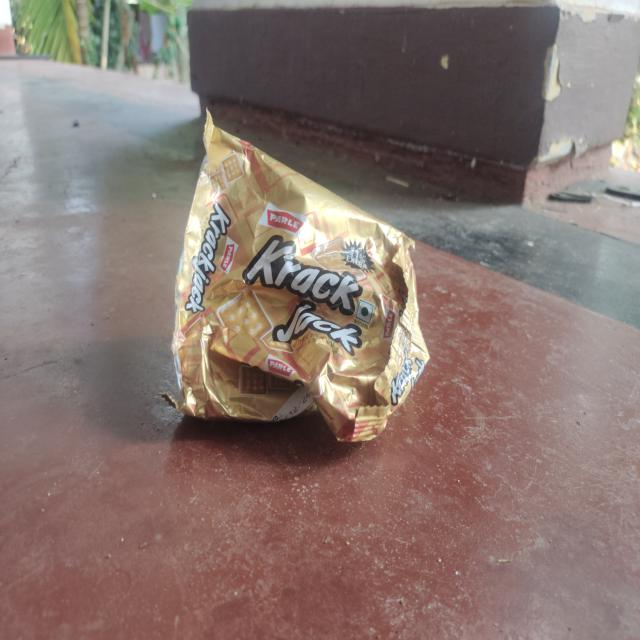plastic: (168, 106, 430, 449)
